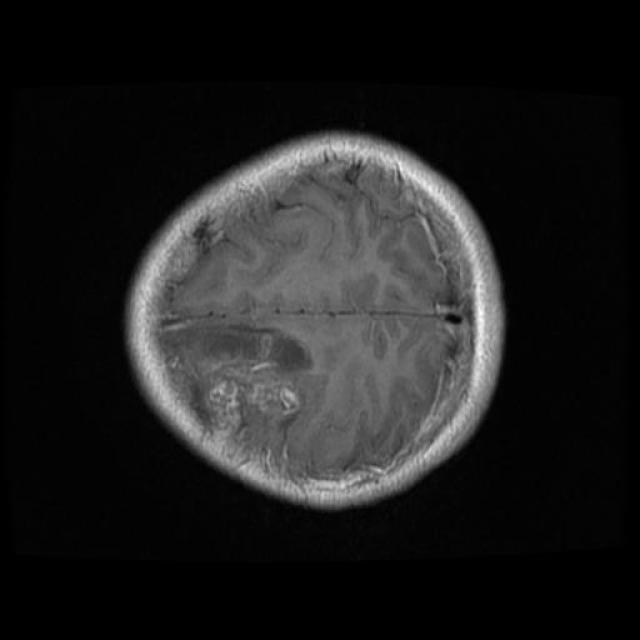Glioma: (173, 326, 311, 432)
